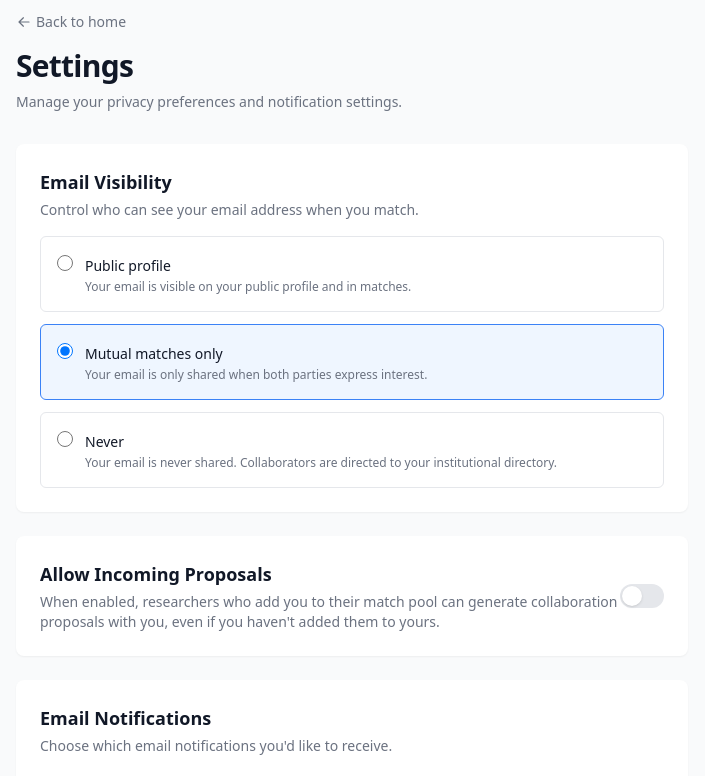
Test: Settings page › saves settings on Save button click
This screenshot has width=705, height=776.
Expected: the heading "Email Visibility" is shown, [40,170,172,194]
Click the 3rd radio button. click: (65, 439)
box: [57,431,73,447]
(page scrolled)
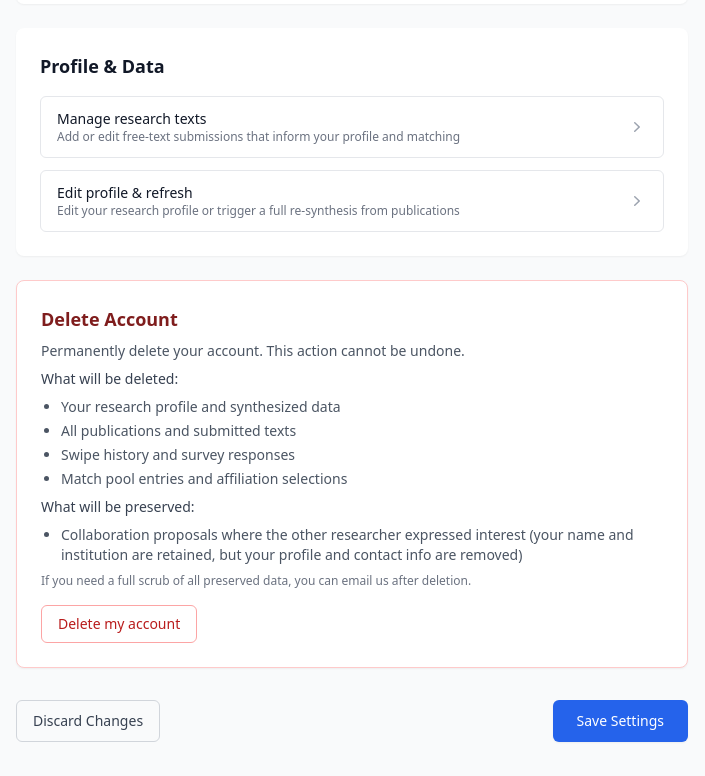
// Click save
Click the button "Save Settings". click: (620, 721)
box: [552,700,688,742]
(page scrolled)
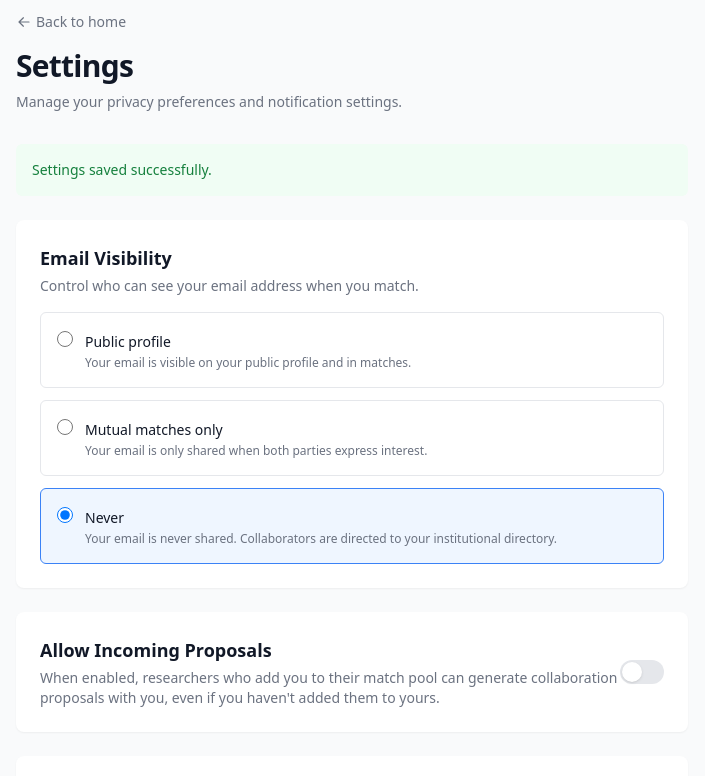
Now the text "Settings saved successfully." is shown, box [32,160,212,179]
